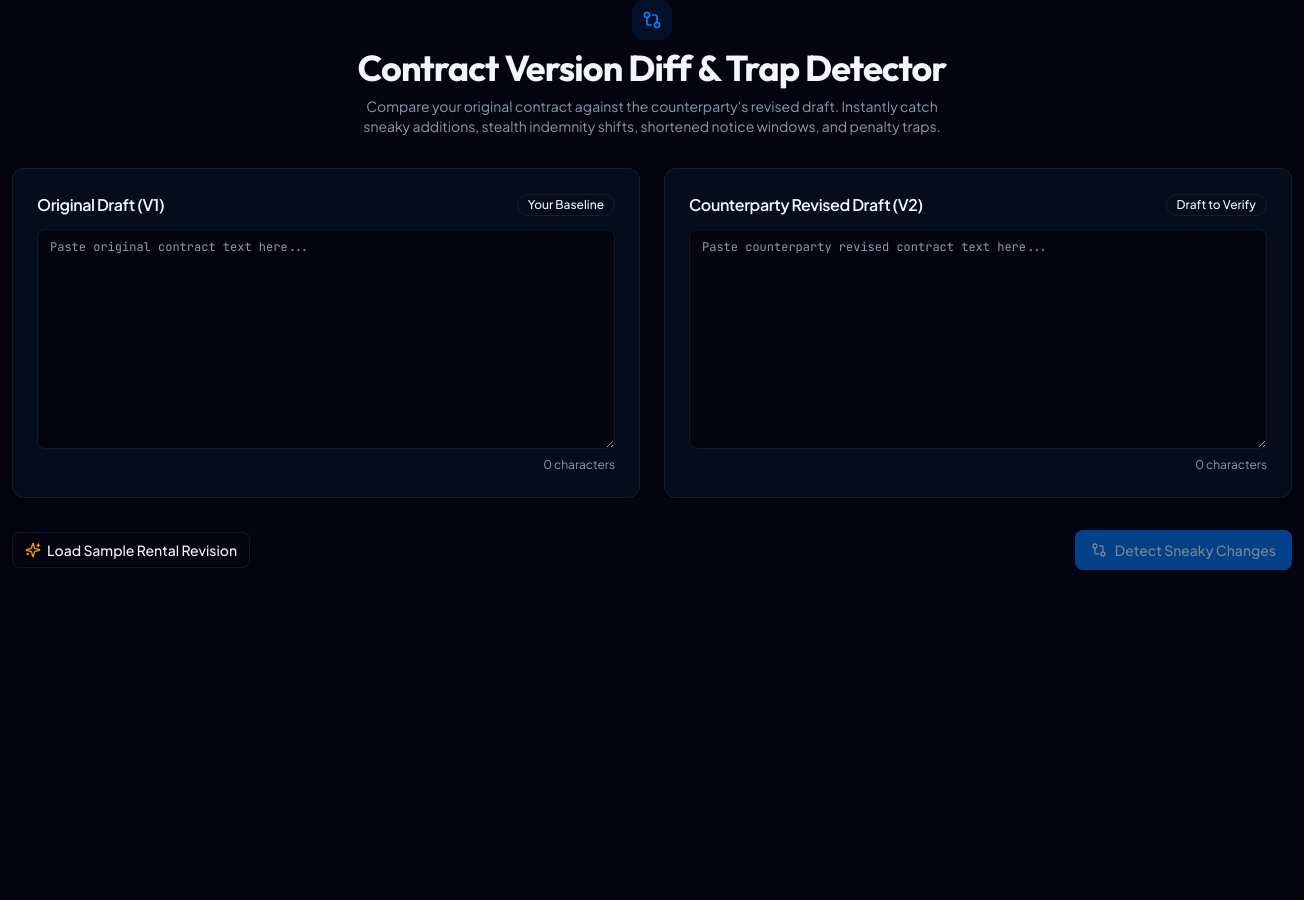
ComparePage › loads sample text and runs comparison successfully
Click load sample
Click the button "Load Sample Rental Revision" at {"x": 131, "y": 550}, box x1=12 y1=532 x2=250 y2=568
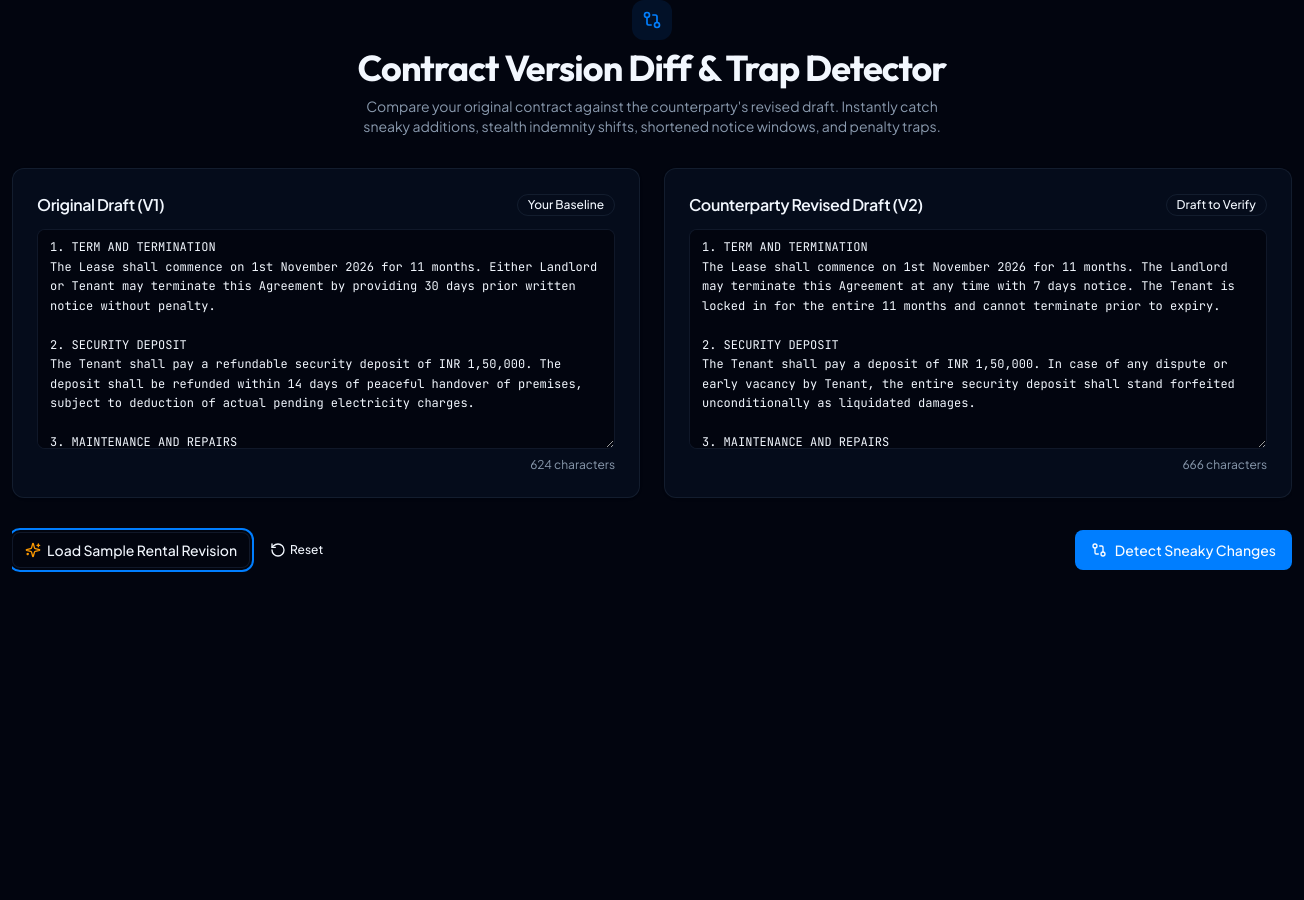
Click compare button
Click the button "Detect Sneaky Changes" at {"x": 1183, "y": 550}, box x1=1075 y1=530 x2=1292 y2=570
(page scrolled)
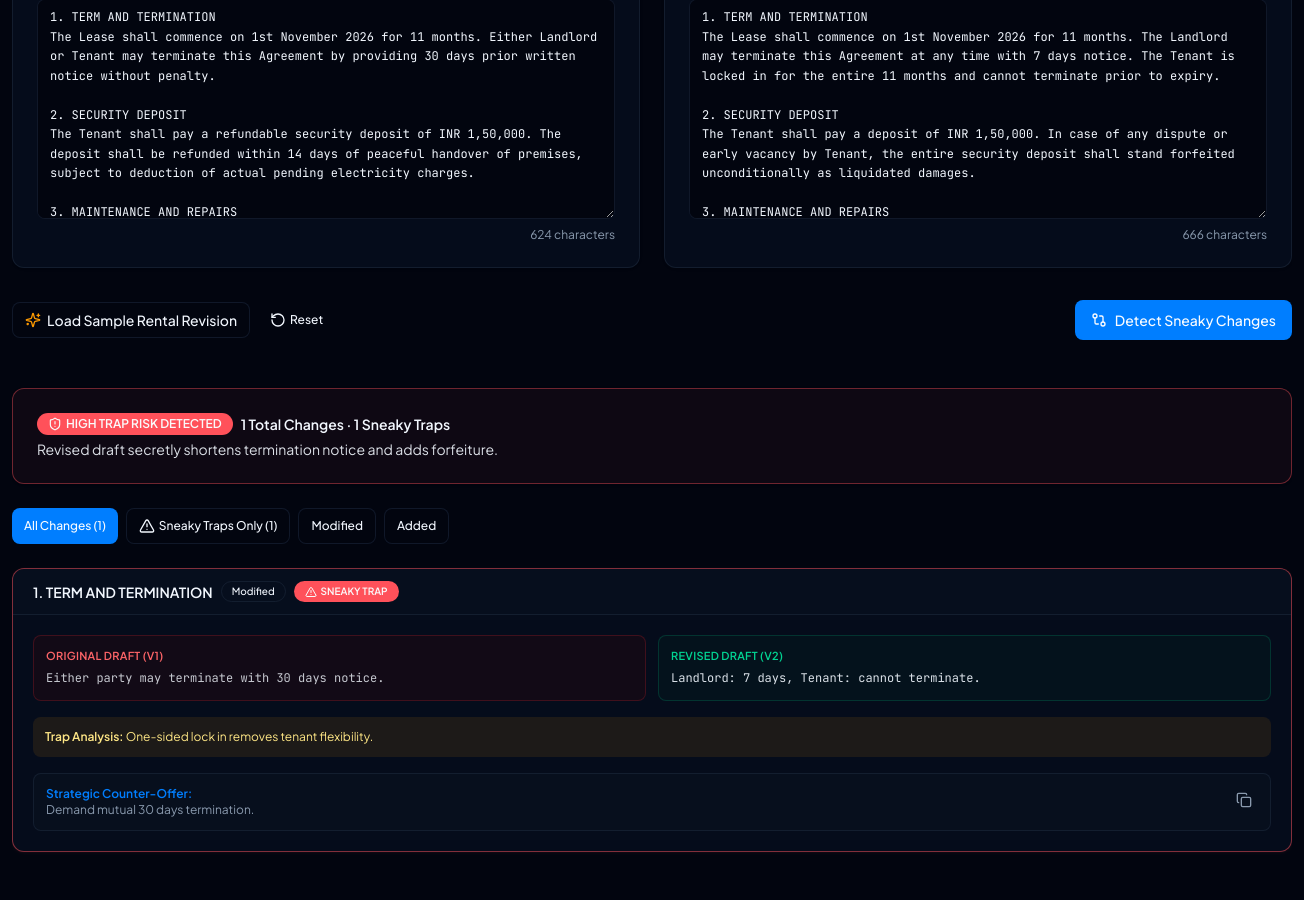
Expected: the text "HIGH TRAP RISK DETECTED" is shown, x1=37 y1=413 x2=233 y2=435
Expected: the text "1. TERM AND TERMINATION" is shown, x1=33 y1=582 x2=213 y2=602
Expected: the text "SNEAKY TRAP" is shown, x1=294 y1=581 x2=399 y2=602
